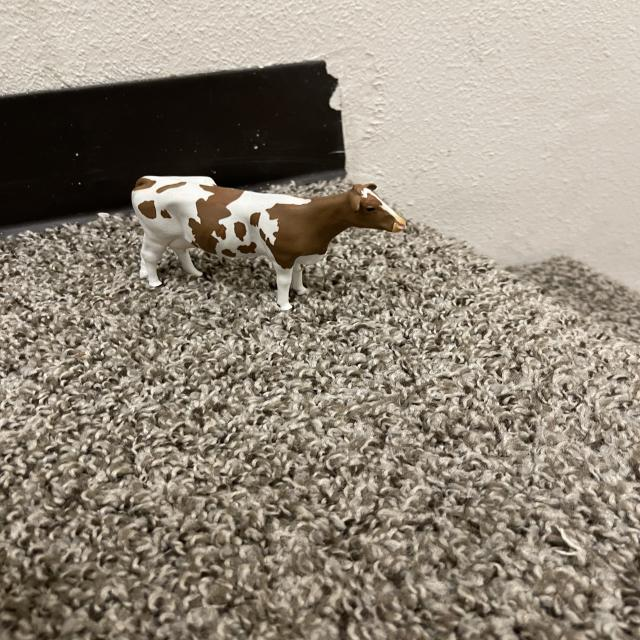cow: (126, 173, 407, 316)
